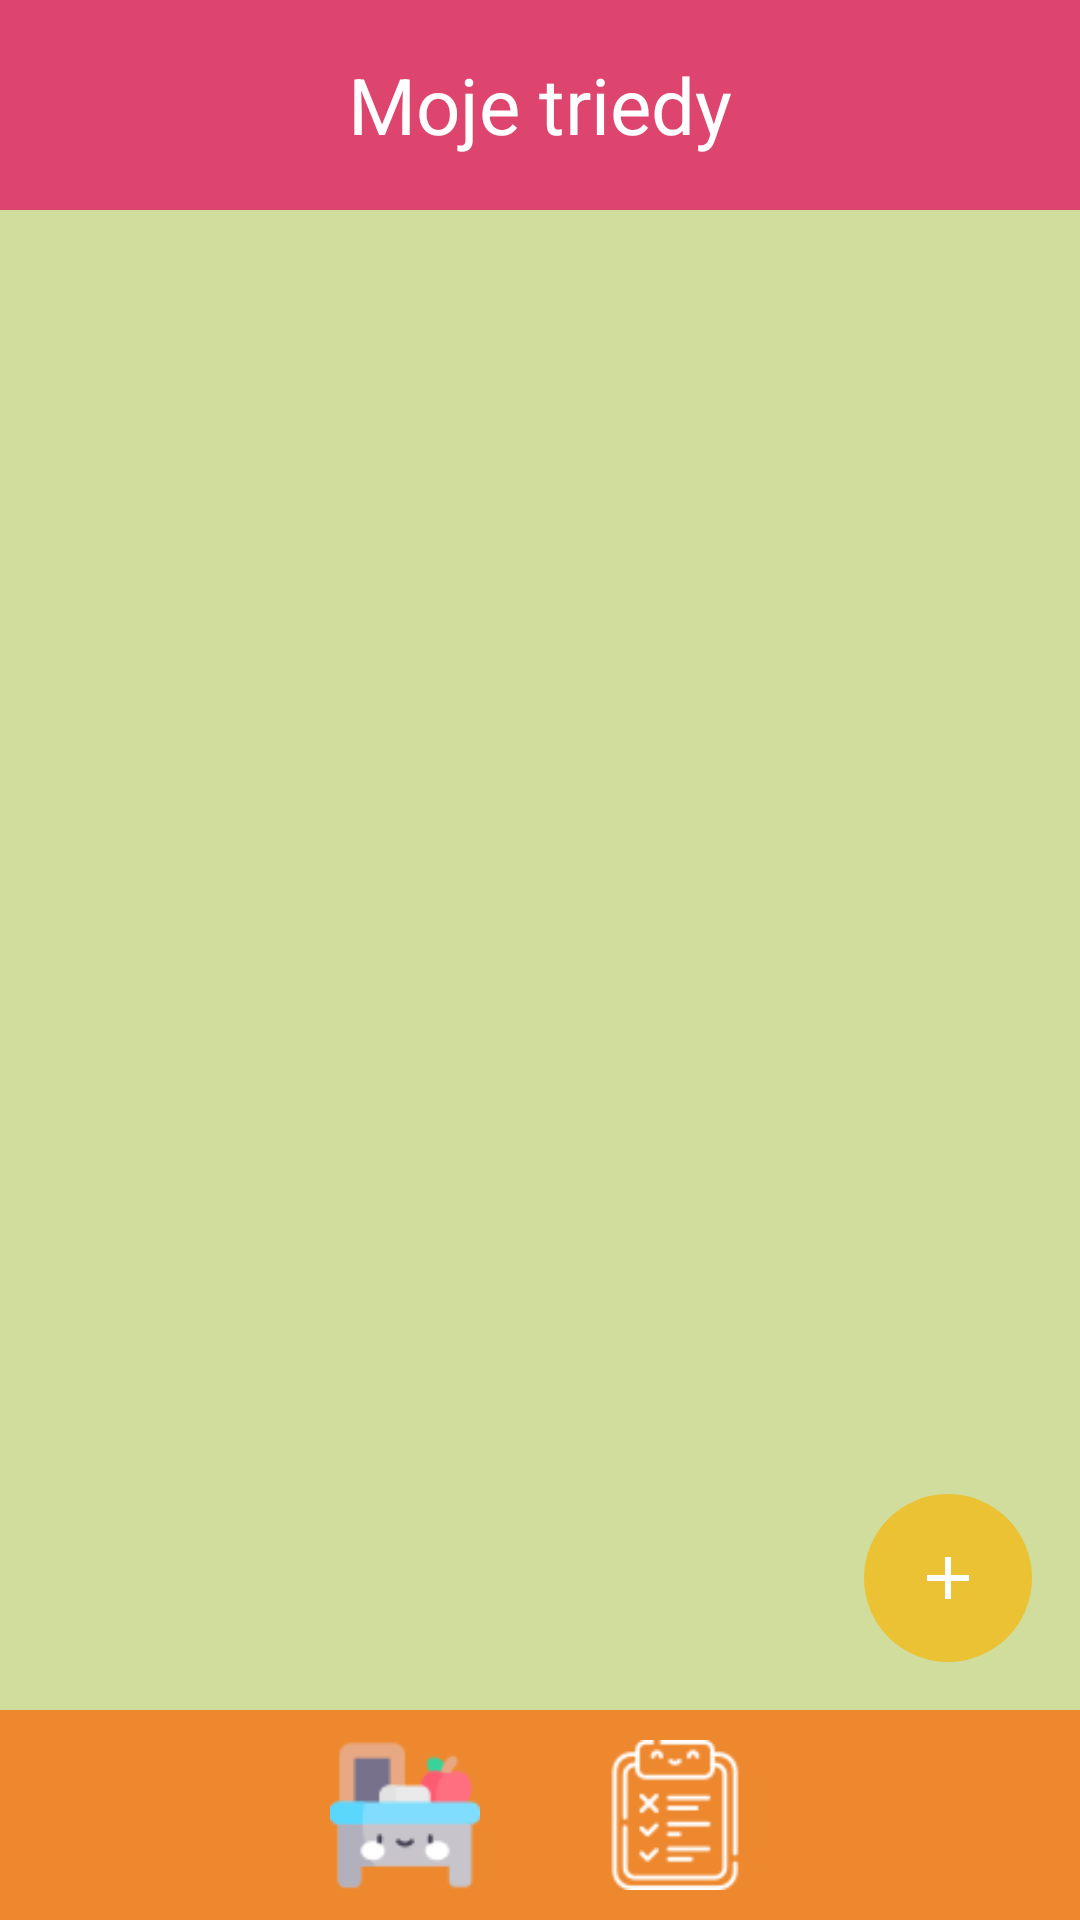

Where to tap for icons on this 1080x1920 app screen, as [x,y]:
triedy: [405,1815]
úlohy: [675,1815]
